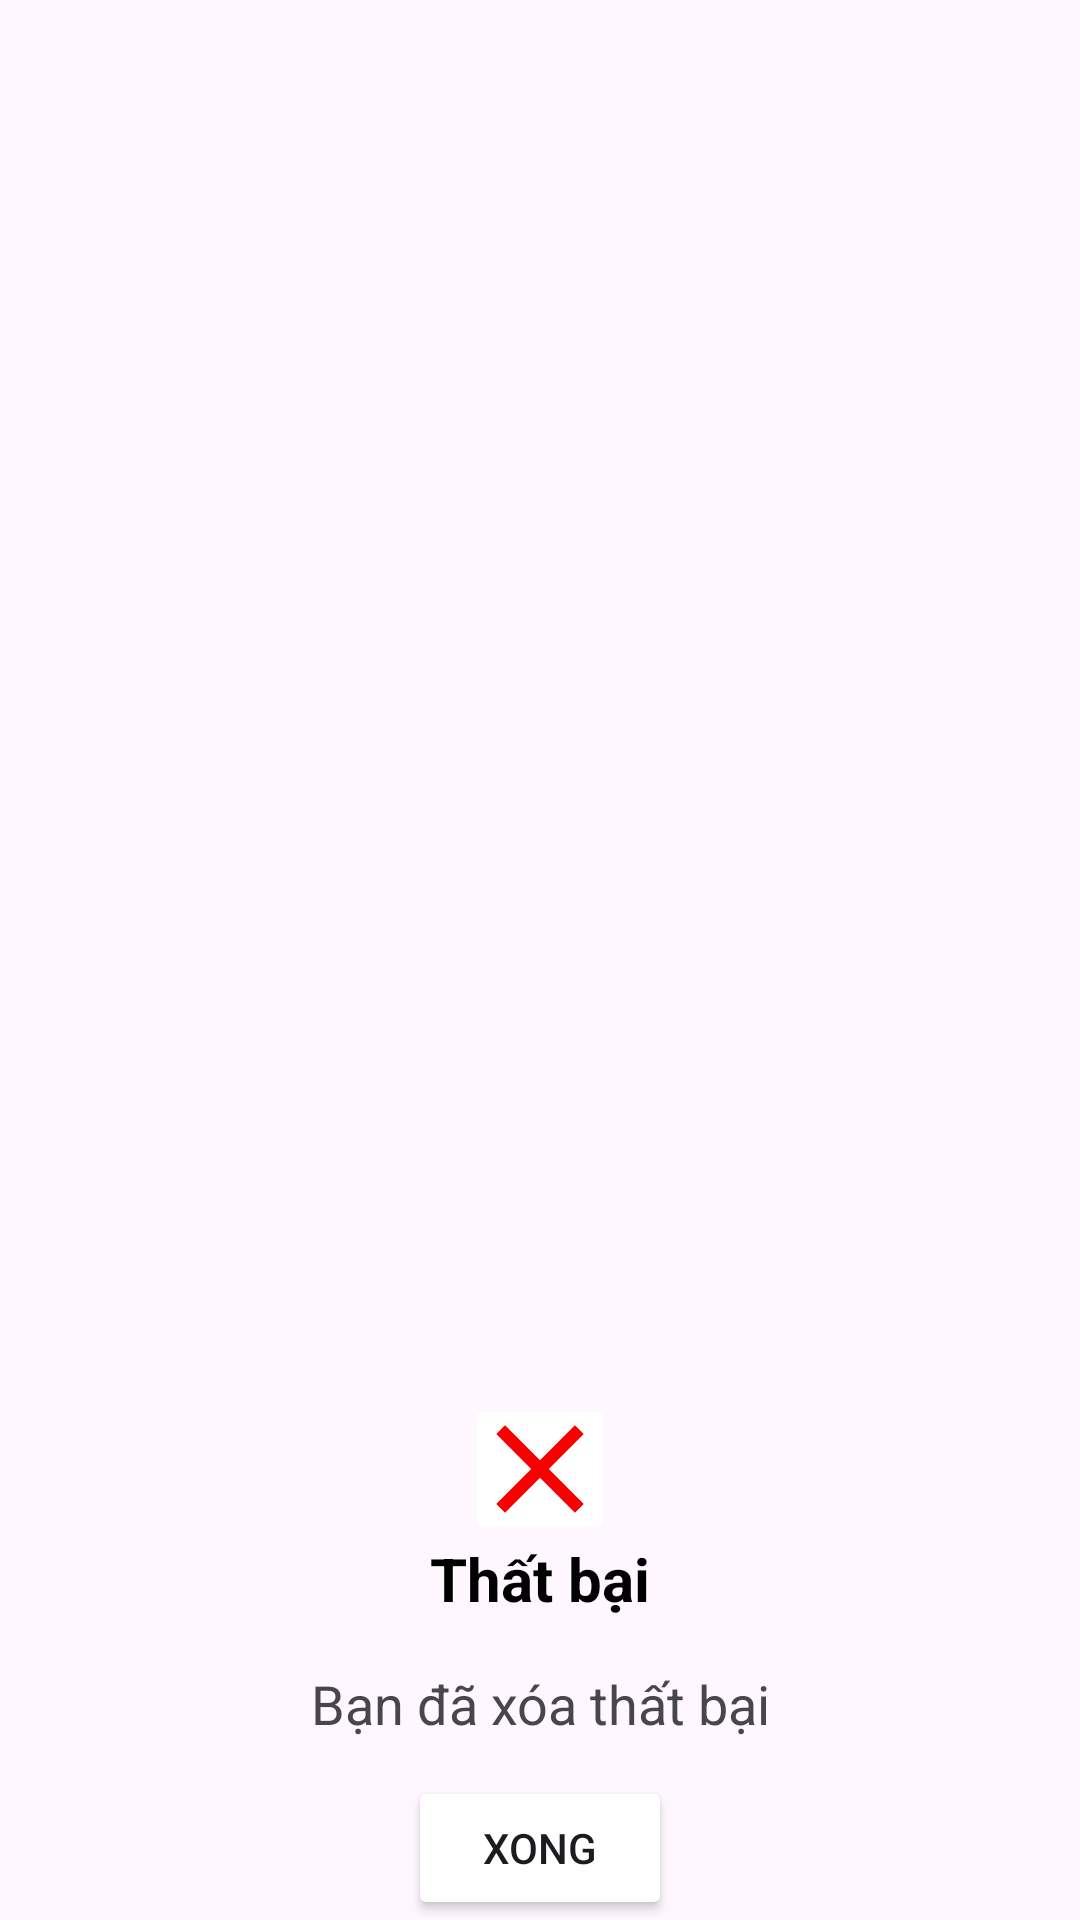

Named icons in this screenshot (1080x1920) and their centers, (x=x, y=y):
xicon: (x=540, y=1469)
